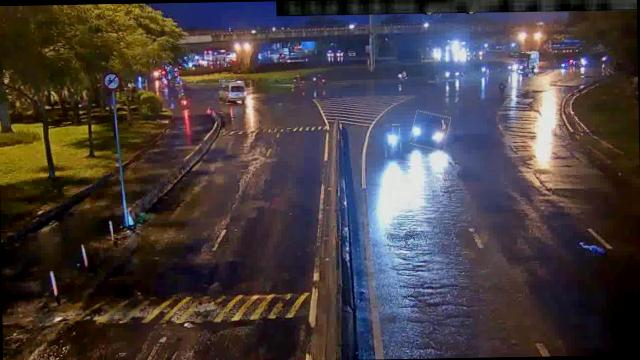Bike: (386, 124, 402, 158)
Bus: (220, 80, 252, 103)
Car: (410, 111, 450, 149)
